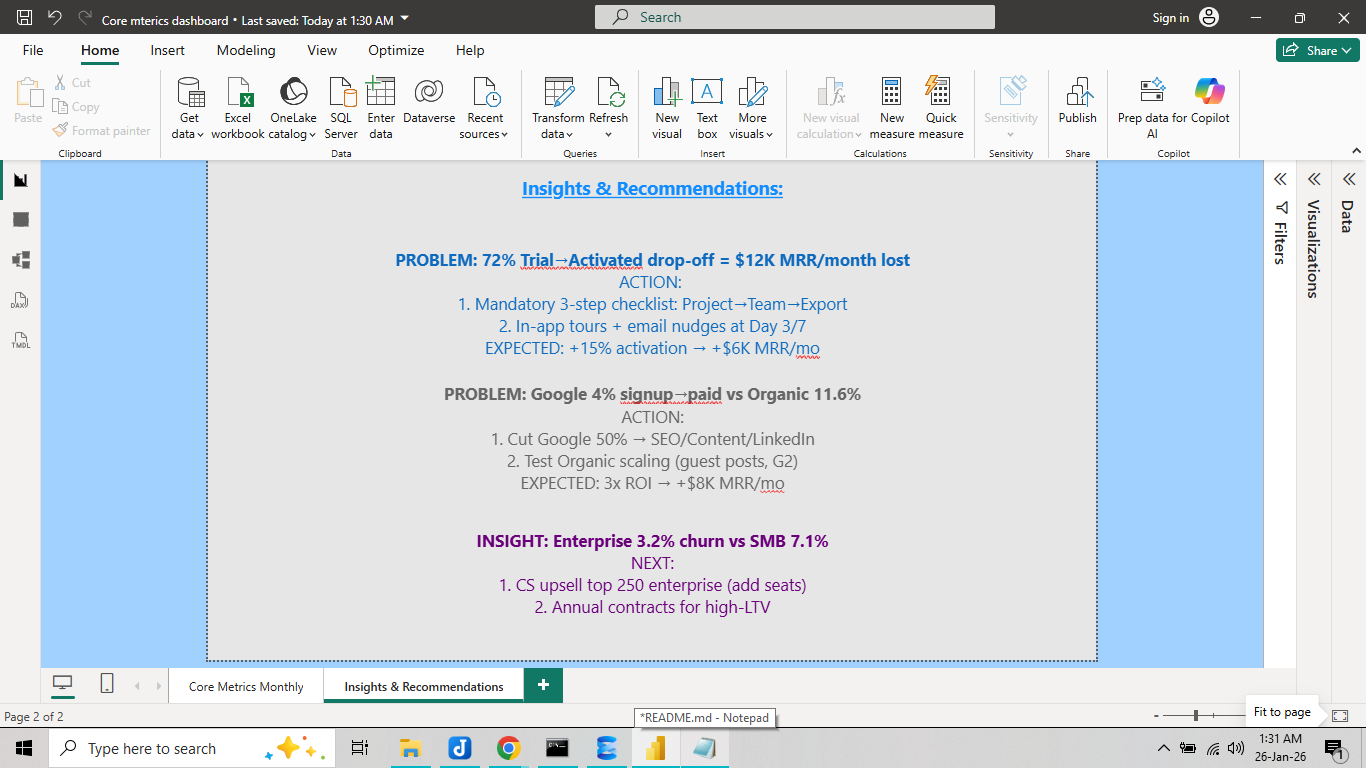

The dashboard page shown, as its layout file describes it:
{"tool":"powerbi","page":{"name":"Insights & Recommendations","canvas":[1280,720],"ordinal":1},"visuals":[{"type":"textbox","box":[0,0,1280.2,720],"z":0}]}

Visuals, with their boxes on the page's 1280x720 design canvas (x1, y1, x2, y2). These are canvas units, not pixel positions in the 1366x768 screenshot, which may show the page scaled, cropped or inside an application window:
textbox: 0:0:1280:720
